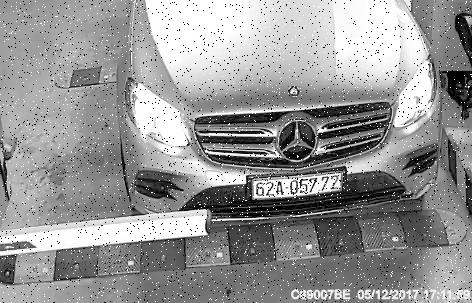License-plate: (234, 170, 349, 201)
